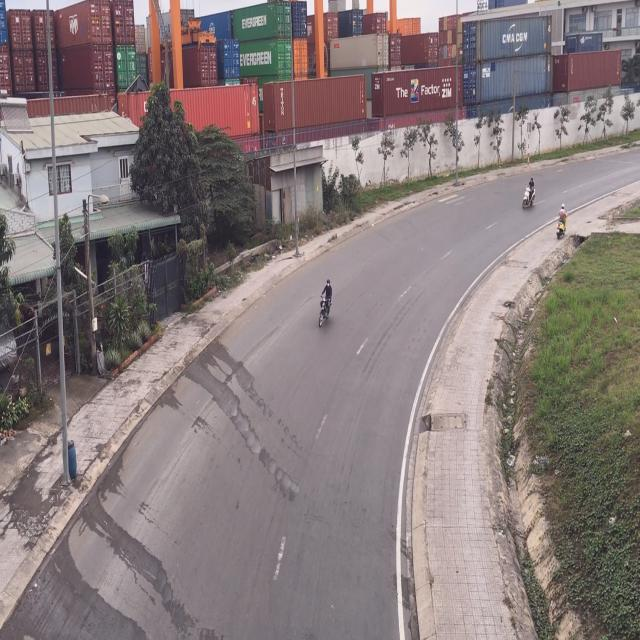motorbike: (316, 279, 333, 332), (522, 176, 537, 212), (556, 204, 569, 239)
